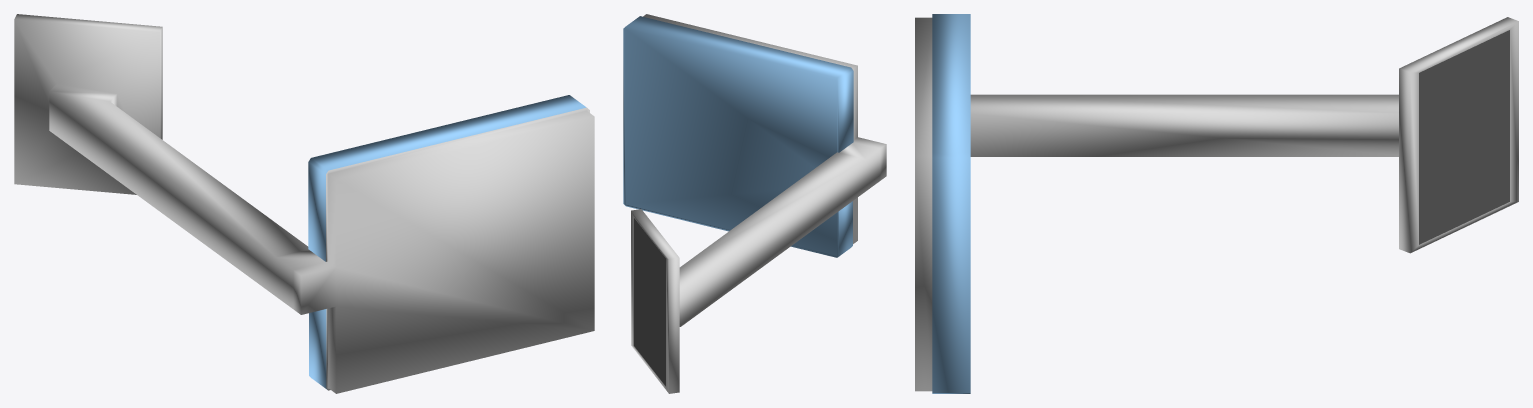
3 renders of one model, left to right at view 1: azimuth 30°, elevation 25°; view 2: azimuth 150°, elevation 25°; view 3: azimuth 270°, elevation 25°, orthographic. The views are drawn at different scales.
Parts seen in each view (by area): view 1: Cube; view 2: Cube; view 3: Cube.
Boxes of the visible parts, left/top/right/bottom form: Cube: left=14, top=14, right=594, bottom=393; Cube: left=623, top=14, right=886, bottom=393; Cube: left=915, top=14, right=1518, bottom=393.
Size of the model in its own units: 45.93 by 30.79 by 69.78.
